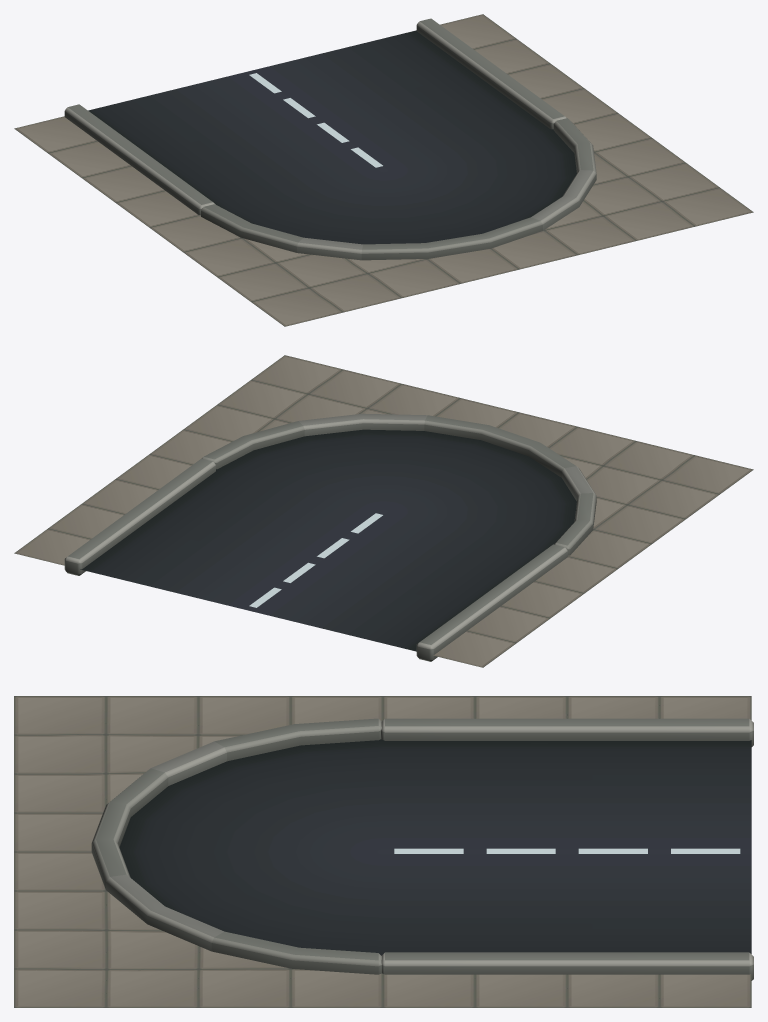
The model's file is dead_end.glb.
3 renders of one model, top to bottom at view 1: azimuth 30°, elevation 25°; view 2: azimuth 150°, elevation 25°; view 3: azimuth 270°, elevation 25°, orthographic. The views are drawn at different scales.
Parts seen in each view (by area): view 1: road_section_dead_end.001, road_section_dead_end_sidewalk, road_section_dead_end, road_section_dead_end.002; view 2: road_section_dead_end.001, road_section_dead_end_sidewalk, road_section_dead_end, road_section_dead_end.002; view 3: road_section_dead_end.001, road_section_dead_end_sidewalk, road_section_dead_end, road_section_dead_end.002.
Boxes of the visible parts, x1,y1,x2,y2 form: road_section_dead_end.001: (88,30,576,244); road_section_dead_end_sidewalk: (14,14,753,326); road_section_dead_end: (64,18,596,260); road_section_dead_end.002: (249,73,382,167); road_section_dead_end.001: (80,429,576,651); road_section_dead_end_sidewalk: (14,355,753,667); road_section_dead_end: (64,413,596,661); road_section_dead_end.002: (249,513,382,607); road_section_dead_end.001: (119,739,751,955); road_section_dead_end_sidewalk: (14,696,751,1007); road_section_dead_end: (91,718,753,980); road_section_dead_end.002: (394,848,740,853).
Size of the model in its own units: 16 by 0.55 by 16.05.
Materials: 3 (3 with a texture image).
